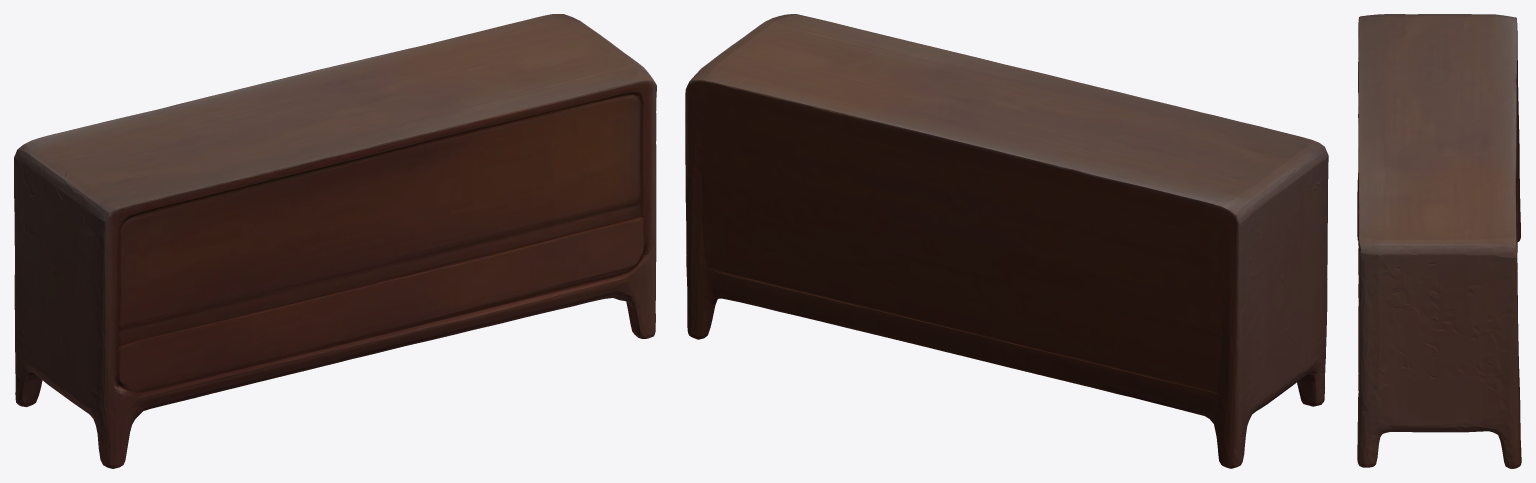
File: ast_6e40e3458f09.glb
3 views of the same model, side by side, from view 1: azimuth 30°, elevation 25°; view 2: azimuth 150°, elevation 25°; view 3: azimuth 270°, elevation 25° (orthographic). The views are drawn at different scales.
Visible parts, largest first — view 1: geometry_0; view 2: geometry_0; view 3: geometry_0.
Boxes of the visible parts, left/top/right/bottom form: geometry_0: left=14, top=14, right=656, bottom=468; geometry_0: left=685, top=14, right=1328, bottom=468; geometry_0: left=1357, top=14, right=1521, bottom=468.
Size of the model in its own units: 1 by 0.4525 by 0.2959.
Materials: 1 (1 with a texture image).
